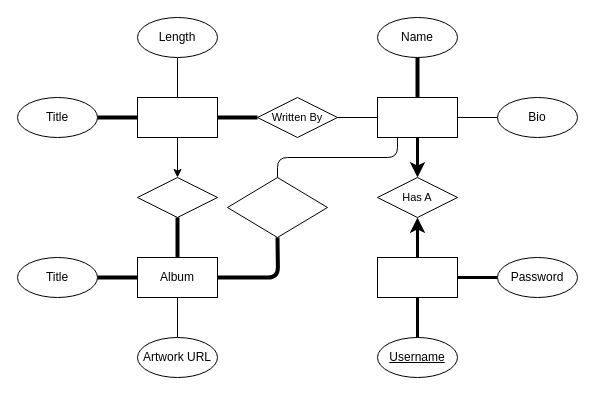
Some shapes in this 595 by 395 pixel diagram are drawn without their labels. The box of each missing label's shape, as (x1, y1, x2, y2) in pixels:
Artist: (376, 96, 458, 138)
B elongs to: (226, 176, 328, 238)
Belongs to: (136, 176, 218, 218)
Song: (136, 96, 218, 138)
User Account: (376, 256, 458, 298)
